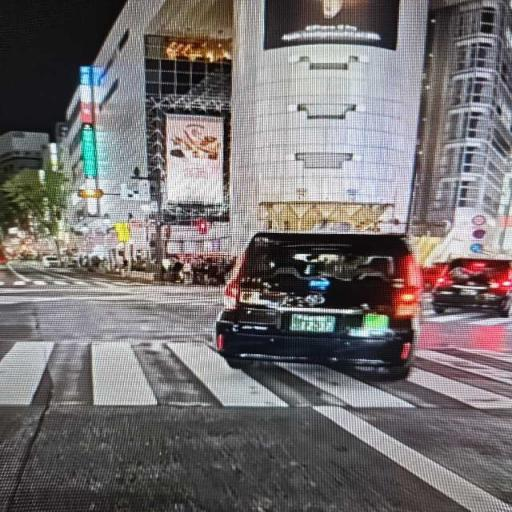car: (216, 233, 421, 378), (432, 259, 511, 316), (42, 256, 62, 267)
